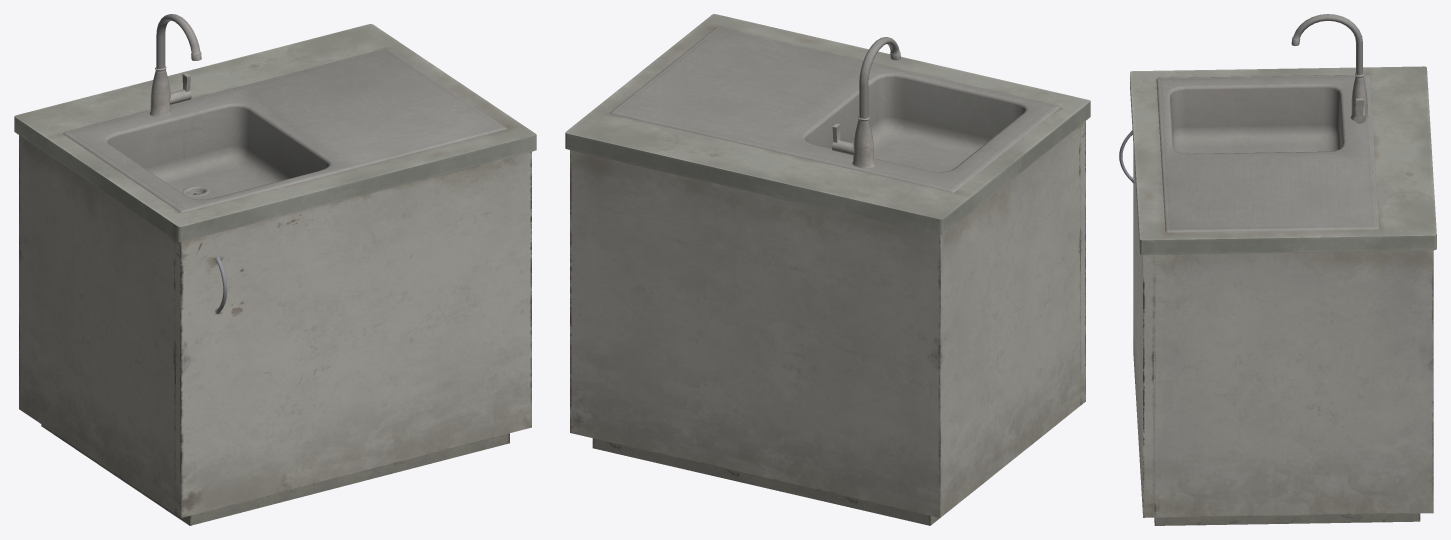
Rendered from kitchen8.glb.
The picture shows the model from 3 angles, left to right: view 1: azimuth 30°, elevation 25°; view 2: azimuth 150°, elevation 25°; view 3: azimuth 270°, elevation 25°; orthographic projection. The views are drawn at different scales.
Parts seen in each view (by area): view 1: body_low, sink_low, tap_low; view 2: body_low, sink_low, tap_low; view 3: body_low, sink_low, tap_low.
Part boxes in pixels (x1=…): body_low: x1=14, y1=24, x2=536, y2=525; sink_low: x1=63, y1=48, x2=506, y2=212; tap_low: x1=149, y1=14, x2=201, y2=117; body_low: x1=565, y1=14, x2=1090, y2=525; sink_low: x1=610, y1=27, x2=1059, y2=192; tap_low: x1=831, y1=37, x2=900, y2=168; body_low: x1=1130, y1=66, x2=1436, y2=525; sink_low: x1=1156, y1=74, x2=1378, y2=232; tap_low: x1=1291, y1=14, x2=1368, y2=123.
Size of the model in its own units: 1.03 by 1.11 by 0.7984.
1 material, 1 textured.
